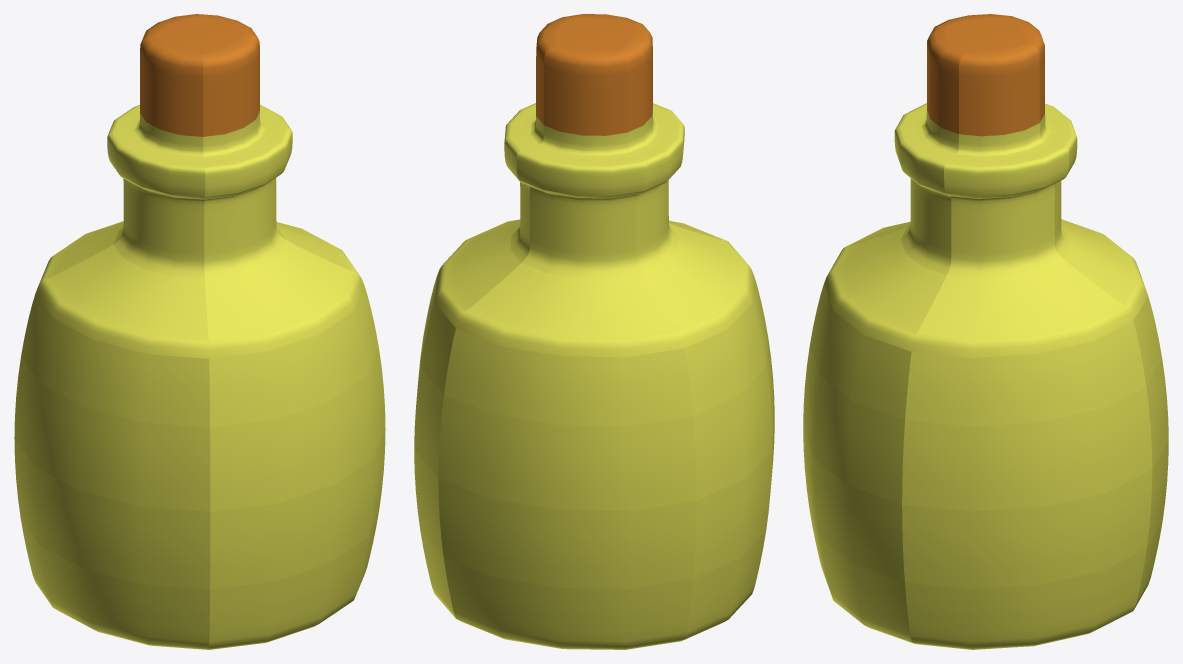
Rendered from Prop_Laboratorio_botella3.fbx.
3 renders of one model, left to right at view 1: azimuth 30°, elevation 25°; view 2: azimuth 150°, elevation 25°; view 3: azimuth 270°, elevation 25°, orthographic.
Visible parts, largest first — view 1: Botella4.011; view 2: Botella4.011; view 3: Botella4.011.
Boxes of the visible parts, x1,y1,x2,y2 form: Botella4.011: [14, 14, 385, 649]; Botella4.011: [414, 14, 774, 649]; Botella4.011: [803, 14, 1168, 649].
Bounding box in the file's own units: 214 × 360 × 214.
